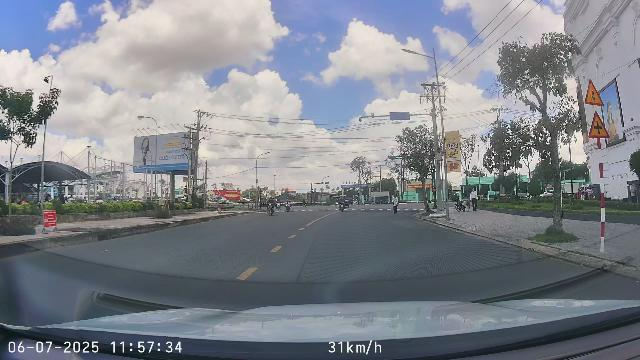209-giao-nhau-co-tin-hieu-den: (585, 79, 604, 107)
